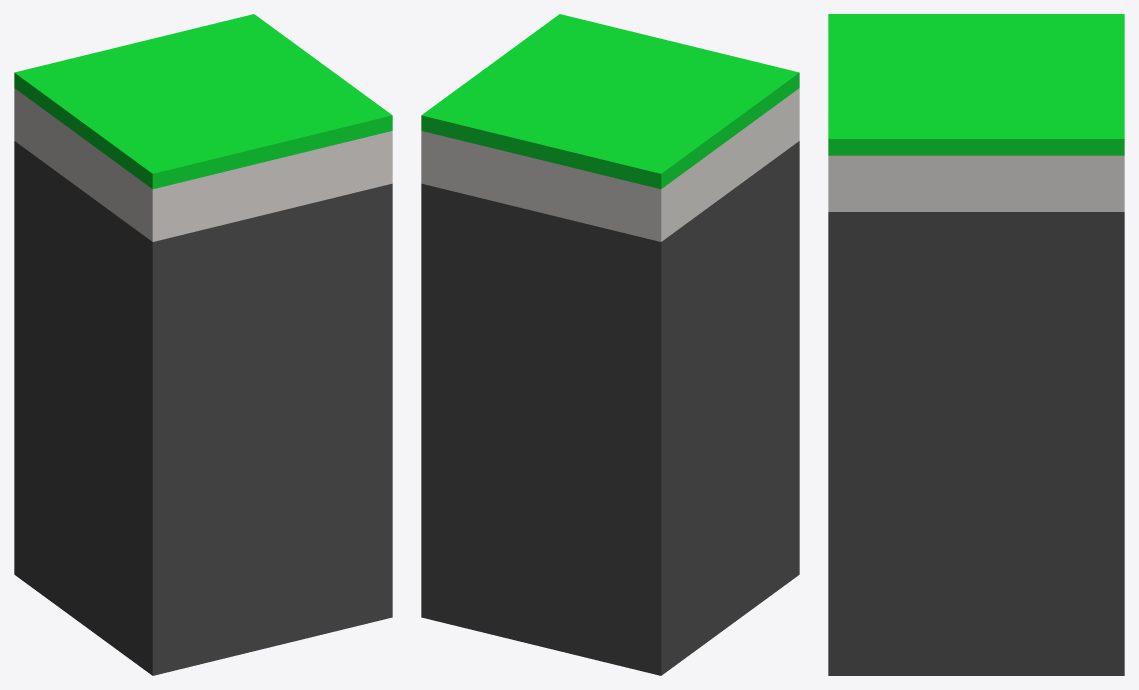
The model's file is Laka.fbx.
3 renders of one model, left to right at view 1: azimuth 30°, elevation 25°; view 2: azimuth 150°, elevation 25°; view 3: azimuth 270°, elevation 25°, orthographic. The views are drawn at different scales.
Parts seen in each view (by area): view 1: LakaBlock; view 2: LakaBlock; view 3: LakaBlock.
Part boxes in pixels (x1,y1,x2,y2): LakaBlock: (14,14,392,675); LakaBlock: (421,14,799,675); LakaBlock: (828,14,1124,675).
Size of the model in its own units: 400 by 400 by 800.
